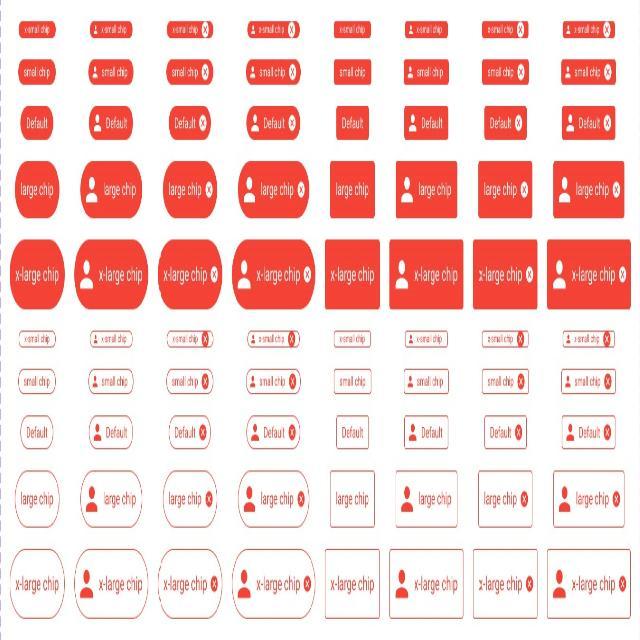QLabel: (413, 574, 458, 597), (478, 264, 522, 287), (15, 264, 59, 286), (256, 574, 300, 596), (572, 574, 615, 596), (413, 265, 458, 286), (163, 265, 207, 286), (256, 266, 300, 287), (330, 265, 374, 286), (99, 265, 142, 286), (572, 265, 615, 286), (330, 575, 375, 595), (15, 575, 59, 595), (163, 575, 207, 595), (478, 575, 522, 595), (99, 574, 142, 594), (18, 182, 54, 202), (335, 490, 369, 510), (418, 490, 452, 510), (576, 180, 609, 200), (20, 181, 54, 200), (168, 181, 202, 200), (260, 490, 294, 509), (260, 181, 294, 200), (335, 181, 369, 200), (575, 490, 609, 509), (484, 180, 516, 200), (103, 490, 136, 509), (103, 181, 136, 200), (418, 181, 451, 200), (484, 490, 517, 509), (21, 491, 54, 509), (168, 491, 202, 508), (416, 375, 443, 390), (487, 375, 514, 390), (574, 375, 601, 390), (171, 376, 199, 390), (259, 375, 285, 390), (23, 66, 50, 80), (23, 375, 50, 389), (101, 66, 128, 80), (259, 66, 286, 80), (489, 115, 512, 131), (172, 66, 198, 80), (338, 376, 366, 389), (574, 67, 602, 80), (578, 424, 600, 440), (101, 376, 128, 389), (339, 66, 366, 79), (416, 66, 443, 79), (487, 66, 514, 79), (24, 23, 50, 36), (263, 425, 285, 440), (342, 425, 364, 440), (23, 333, 50, 345), (420, 426, 443, 440), (489, 425, 512, 439), (578, 116, 601, 130), (101, 24, 127, 36), (172, 24, 198, 36), (172, 333, 198, 345), (258, 24, 284, 36), (339, 24, 365, 36), (339, 333, 365, 345), (416, 334, 442, 346), (487, 24, 513, 36), (487, 333, 513, 345), (574, 333, 600, 345), (26, 116, 48, 130), (26, 425, 48, 439), (106, 116, 128, 130), (174, 426, 196, 440), (263, 116, 285, 130), (342, 116, 364, 130), (420, 116, 442, 130), (416, 24, 443, 35), (106, 425, 127, 439), (100, 334, 126, 345), (174, 117, 196, 130), (574, 24, 600, 35), (259, 334, 284, 345)
VChip: (546, 548, 631, 620), (232, 548, 316, 619), (232, 239, 316, 310), (547, 239, 631, 310), (389, 548, 464, 620), (389, 238, 464, 310), (74, 548, 148, 620), (74, 238, 148, 310), (472, 238, 538, 310), (472, 548, 538, 619), (158, 239, 222, 310), (158, 548, 222, 619), (552, 160, 624, 220), (238, 160, 309, 219), (238, 470, 310, 528), (553, 470, 624, 528), (9, 548, 65, 620), (324, 548, 380, 619), (10, 239, 65, 310), (325, 239, 380, 310), (80, 469, 142, 528), (80, 160, 142, 219), (396, 160, 458, 219), (396, 470, 458, 528), (163, 469, 217, 529), (163, 160, 217, 219), (478, 160, 532, 219), (478, 470, 532, 528), (15, 469, 60, 528), (15, 160, 59, 220), (330, 161, 375, 219), (330, 470, 375, 528), (562, 105, 616, 141), (246, 415, 301, 450), (562, 415, 616, 450), (247, 105, 300, 140), (88, 414, 134, 450), (88, 105, 134, 141), (404, 414, 448, 450), (404, 105, 448, 141), (484, 105, 527, 141), (561, 58, 616, 86), (169, 105, 211, 141), (246, 58, 300, 86), (168, 415, 211, 450), (484, 415, 527, 450), (246, 368, 301, 395), (561, 368, 616, 395), (166, 368, 214, 395), (88, 367, 134, 395), (88, 58, 134, 86), (166, 58, 213, 85), (482, 368, 529, 395), (403, 368, 449, 395), (482, 59, 529, 85), (403, 59, 449, 85), (20, 414, 53, 450), (336, 105, 369, 141), (20, 105, 53, 140), (336, 415, 369, 450), (18, 368, 56, 395), (334, 58, 372, 85), (334, 368, 371, 395), (18, 59, 56, 85), (248, 20, 300, 39), (562, 330, 615, 348), (166, 20, 214, 39), (247, 331, 300, 348), (562, 21, 615, 38), (166, 330, 214, 348), (482, 21, 528, 39), (482, 330, 528, 348), (90, 329, 132, 348), (90, 20, 132, 39), (405, 330, 448, 348), (18, 20, 56, 40), (405, 21, 448, 38), (18, 330, 56, 348), (334, 21, 371, 39), (334, 330, 371, 348)
VIcon: (552, 259, 567, 290), (552, 568, 566, 600), (237, 259, 251, 290), (395, 259, 409, 290), (80, 569, 94, 599), (237, 569, 251, 599), (395, 569, 409, 599), (80, 258, 93, 290), (85, 176, 98, 204), (243, 176, 256, 204), (86, 485, 98, 513), (401, 176, 413, 204), (401, 485, 413, 513), (558, 176, 570, 204), (243, 486, 255, 512), (558, 486, 570, 512), (408, 113, 417, 133), (408, 422, 417, 442), (93, 114, 102, 133), (93, 423, 102, 442), (288, 63, 297, 81), (251, 113, 259, 133), (603, 373, 612, 390), (603, 424, 612, 441), (210, 265, 218, 284), (251, 423, 259, 442), (526, 265, 534, 284), (520, 180, 528, 199), (566, 113, 574, 132), (612, 489, 620, 508), (205, 490, 213, 508), (198, 423, 206, 441), (201, 372, 209, 390), (205, 180, 213, 198), (199, 114, 207, 132), (201, 63, 209, 81), (297, 490, 305, 508), (303, 575, 311, 593), (526, 575, 534, 593), (520, 490, 528, 508), (514, 114, 522, 132), (517, 63, 525, 81), (604, 63, 612, 81), (612, 180, 620, 198), (618, 266, 626, 284), (566, 424, 574, 442), (618, 575, 626, 593), (210, 575, 218, 592), (288, 114, 296, 131), (297, 181, 305, 198), (304, 266, 312, 283), (288, 424, 296, 441), (514, 424, 522, 441), (517, 373, 525, 390), (604, 114, 611, 132), (289, 373, 296, 390), (201, 332, 209, 346), (288, 22, 295, 38), (516, 332, 524, 346), (603, 22, 610, 38), (603, 332, 611, 346), (517, 22, 524, 37), (288, 332, 295, 346), (407, 375, 414, 388), (202, 22, 208, 37), (92, 375, 98, 389), (250, 65, 256, 79), (407, 65, 413, 79), (565, 65, 571, 79), (92, 66, 98, 79), (250, 375, 256, 388), (565, 375, 571, 388), (566, 24, 571, 35), (93, 25, 98, 35), (93, 334, 98, 344), (408, 334, 413, 344), (251, 25, 255, 35), (251, 334, 255, 344), (409, 25, 413, 35), (566, 334, 570, 344)
